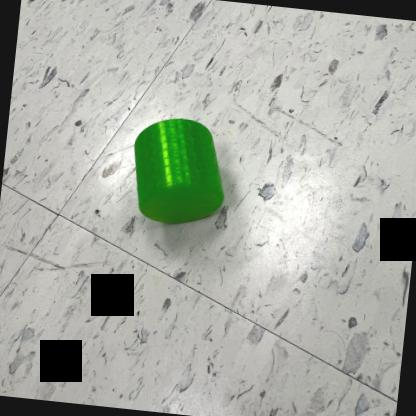green cylinder: (124, 111, 232, 231)
